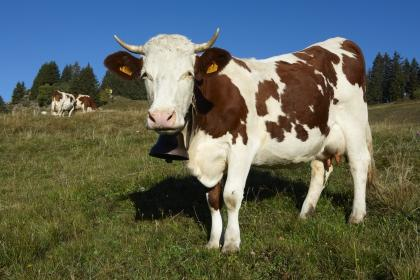muzzles: (142, 108, 189, 139)
